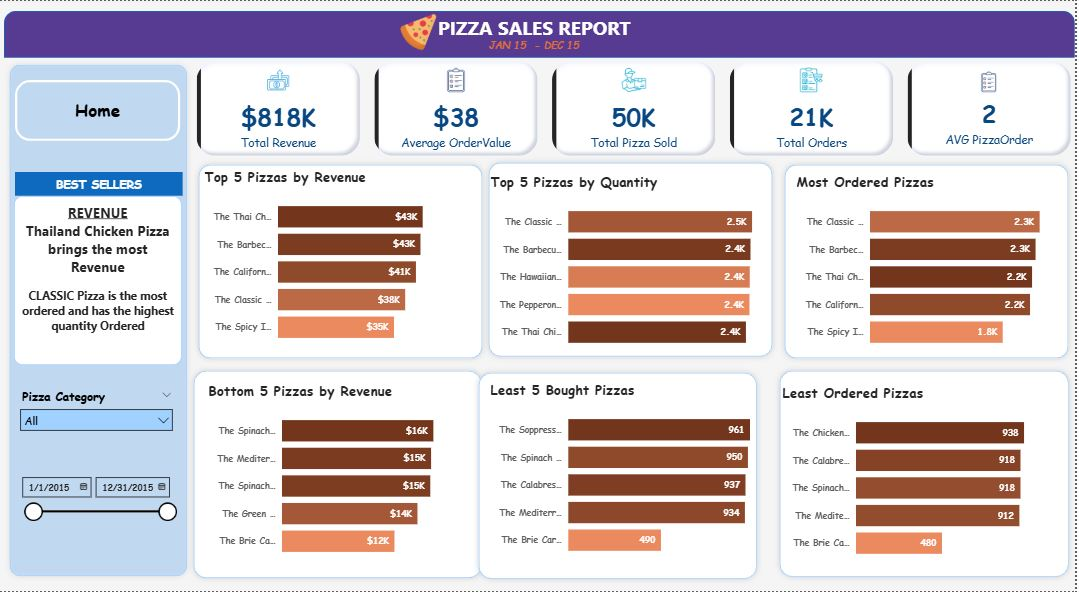

This screenshot's page, from the dashboard's own definition file:
{"tool":"powerbi","page":{"name":"Worst and Best selling","canvas":[1500,820],"ordinal":1},"visuals":[{"type":"cardVisual","fields":{"Data":["KPIs.Total Revenue","KPIs.Average OrderValue","KPIs.Total Pizza Sold","KPIs.Total Orders","KPIs.AVG PizzaOrder"]},"box":[274.8,79,1225.2,141.2],"z":0},{"type":"shape","box":[12.4,13.9,1488.4,65],"z":1000},{"type":"textbox","box":[601.8,13.9,295.5,57.2],"z":2000},{"type":"textbox","box":[661.9,46.7,174.5,29.4],"z":3000},{"type":"image","box":[557,10.8,61.9,65],"z":4000},{"type":"shape","box":[274.8,220.2,410,285],"z":5000},{"type":"shape","box":[12.1,81.1,262.4,726.8],"z":6000},{"type":"textbox","box":[27.6,238.2,233.1,32.8],"z":7000},{"type":"textbox","box":[25.9,271,233.1,234.8],"z":8000},{"type":"shape","box":[678.2,217.3,409.9,285.3],"z":10000},{"type":"shape","box":[1090.1,219.1,410,285],"z":11000},{"type":"shape","box":[268.3,506.3,415.6,304.2],"z":12000},{"type":"shape","box":[665,508.2,402.4,302.3],"z":13000},{"type":"shape","box":[1082.5,506.3,417.5,302.3],"z":14000},{"type":"barChart","title":"Top 5 Pizzas by Revenue","fields":{"Category":["pizza_sales.pizza_name"],"Y":["KPIs.Total Revenue"]},"box":[286.6,231.3,374.6,258.9],"z":15000},{"type":"barChart","title":"Bottom 5 Pizzas by Revenue","fields":{"Category":["pizza_sales.pizza_name"],"Y":["KPIs.Total Revenue"]},"box":[291.7,528.3,374.6,258.9],"z":16000},{"type":"barChart","title":"Top 5 Pizzas by Quantity","fields":{"Category":["pizza_sales.pizza_name"],"Y":["KPIs.Total Pizza Sold"]},"box":[683.9,238,398.6,258.8],"z":17000},{"type":"barChart","title":"Least 5 Bought Pizzas","fields":{"Category":["pizza_sales.pizza_name"],"Y":["KPIs.Total Pizza Sold"]},"box":[683.9,527.1,398.6,258.8],"z":18000},{"type":"barChart","title":"Most Ordered Pizzas","fields":{"Category":["pizza_sales.pizza_name"],"Y":["KPIs.Total Orders"]},"box":[1108.9,238,374.1,258.8],"z":19000},{"type":"barChart","title":"Least Ordered Pizzas","fields":{"Category":["pizza_sales.pizza_name"],"Y":["KPIs.Total Orders"]},"box":[1090.1,530.9,374.1,258.8],"z":20000},{"type":"slicer","fields":{"Values":["pizza_sales.pizza_category"]},"box":[24.6,532.7,232.4,92.6],"z":20001},{"type":"slicer","fields":{"Values":["pizza_sales.order_date"]},"box":[24.5,651.4,236,85.8],"z":20002},{"type":"actionButton","box":[27.6,110.5,229.6,84.6],"z":20003}]}

Visuals, with their boxes in screenshot pixels (x1, y1, x2, y2), scaled from the page's 1500x820 canvas onto the 1079x592 screenshot:
cardVisual - KPIs.Total Revenue x KPIs.Average OrderValue: 198/57/1078/159
shape: 9/10/1078/57
textbox: 433/10/645/51
textbox: 476/34/602/55
image: 401/8/445/55
shape: 198/159/493/365
shape: 9/59/197/583
textbox: 20/172/188/196
textbox: 19/196/186/365
shape: 488/157/783/363
shape: 784/158/1078/364
shape: 193/366/492/585
shape: 478/367/768/585
shape: 779/366/1078/584
"Top 5 Pizzas by Revenue" barChart: 206/167/476/354
"Bottom 5 Pizzas by Revenue" barChart: 210/381/479/568
"Top 5 Pizzas by Quantity" barChart: 492/172/779/359
"Least 5 Bought Pizzas" barChart: 492/381/779/567
"Most Ordered Pizzas" barChart: 798/172/1067/359
"Least Ordered Pizzas" barChart: 784/383/1053/570
slicer - pizza_sales.pizza_category: 18/385/185/451
slicer - pizza_sales.order_date: 18/470/187/532
actionButton: 20/80/185/141
